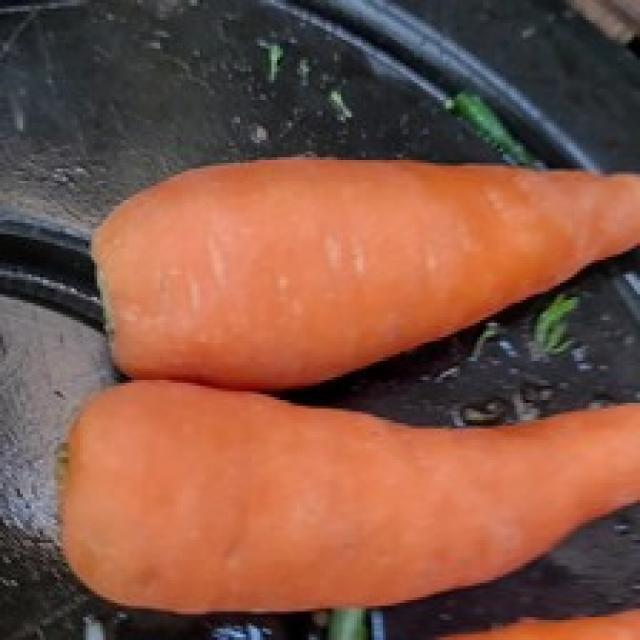carrot: (57, 376, 640, 612), (90, 159, 640, 388)
